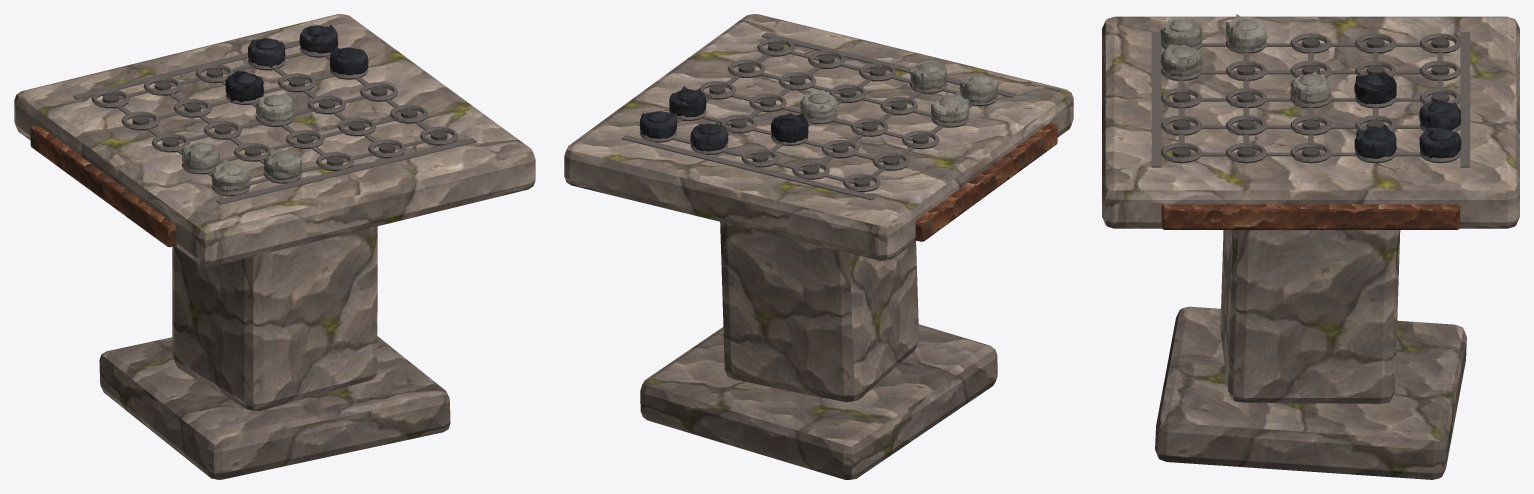
Rendered from stone_game_table.glb.
3 views of the same model, side by side, from view 1: azimuth 30°, elevation 25°; view 2: azimuth 150°, elevation 25°; view 3: azimuth 270°, elevation 25° (orthographic). The views are drawn at different scales.
Parts seen in each view (by area): view 1: model; view 2: model; view 3: model.
Boxes of the visible parts, <box> form: model: <box>14,14,535,479</box>; model: <box>564,14,1073,479</box>; model: <box>1102,14,1519,479</box>.
Size of the model in its own units: 0.88 by 0.7682 by 0.84.
8 materials, 6 textured.
